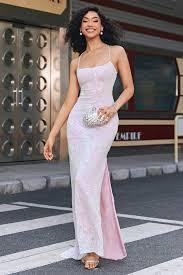dress: (64, 44, 130, 260)
